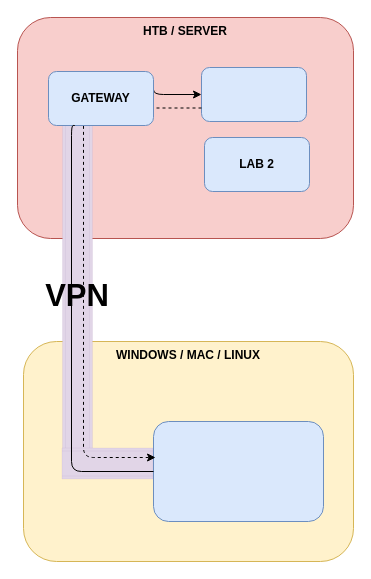
The diagram is 371 pixels wide and 579 high, and some of its shapes have lost their labels. The centre of each missing label's shape, as x and y in pixels:
"KALI CONTENEDOR DOCKER" goes at [238,471].
"LAB 1" goes at [253,94].
